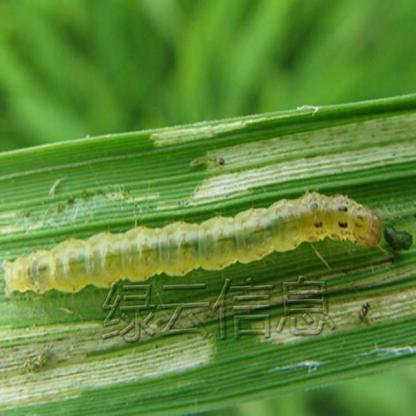leaf-folder: (11, 190, 396, 300), (184, 148, 234, 176)
